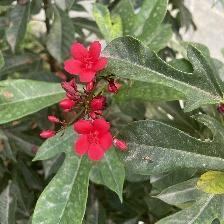jatropha: (63, 40, 109, 84), (74, 118, 116, 162)
